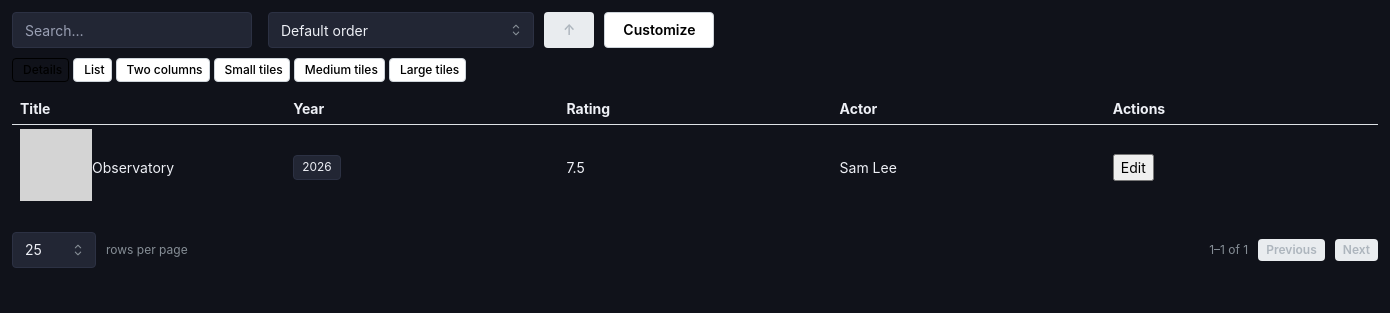
DenseGrid opt-in pagination › keeps artwork, titles, basic labels and actions in compact views, with full metadata in list and details
Click the button with aria-label "Two columns layout".
click(162, 70)  # box top-left (116, 58), bottom-right (210, 82)
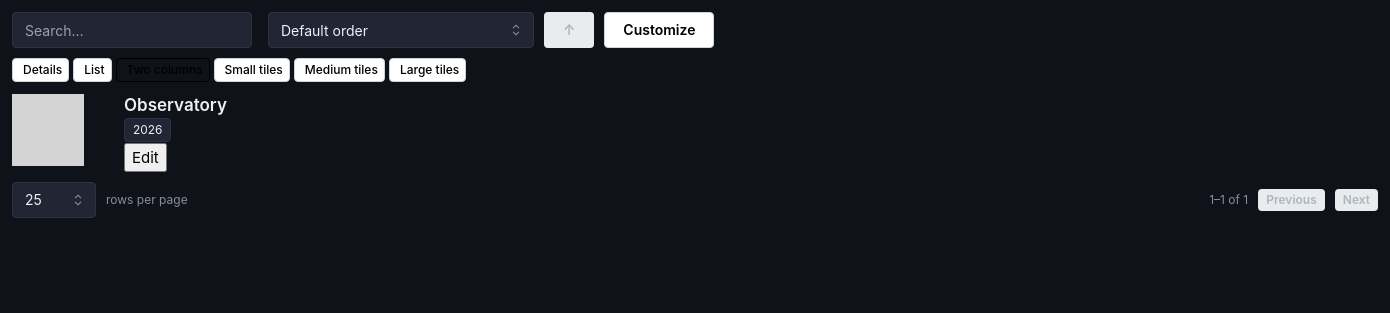
Expected: the text "Observatory" is shown, top-left (124, 95), bottom-right (227, 115)
Now the text "7.5" is gone
Now the text "Sam Lee" is gone
Click the button "Small tiles".
click(252, 70)  # box top-left (214, 58), bottom-right (290, 82)
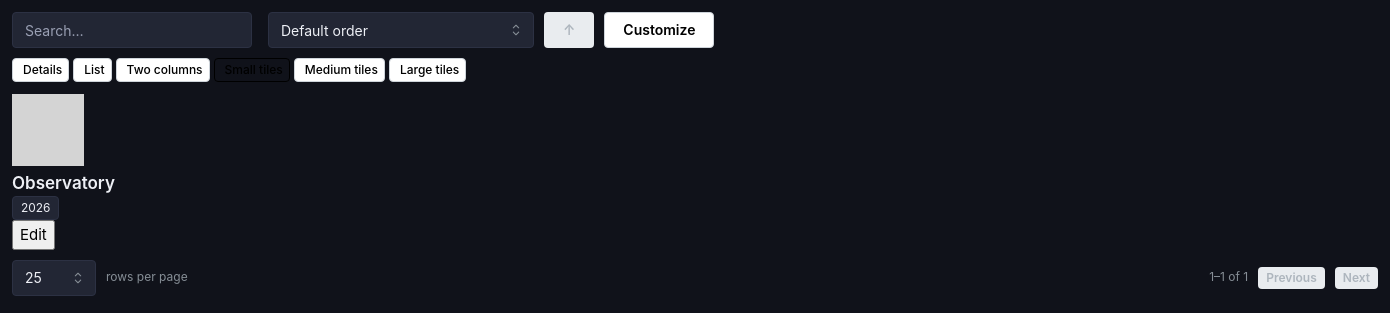
Expected: the text "Observatory" is shown, top-left (12, 173), bottom-right (115, 193)
Expected: the button named "Filter Year: 2026" is shown, top-left (12, 196), bottom-right (59, 220)
Click the button "Medium tiles".
click(339, 70)  # box top-left (294, 58), bottom-right (385, 82)
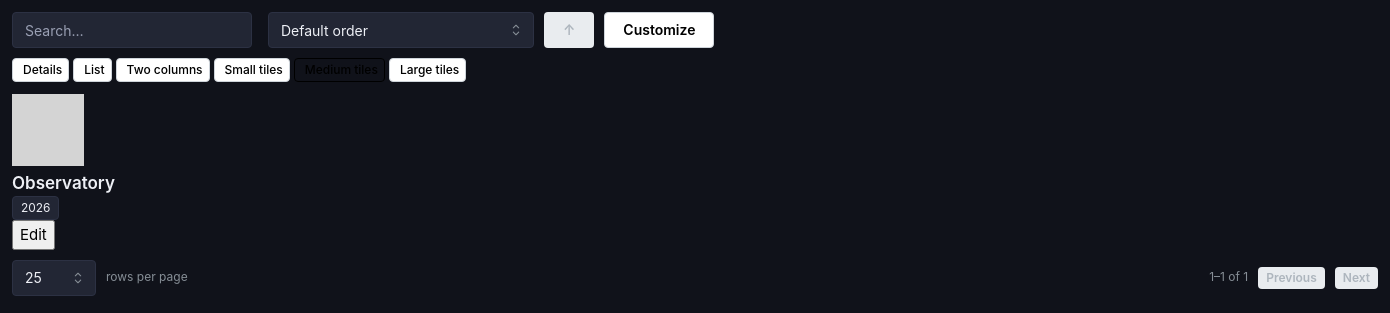
Expected: the text "Observatory" is shown, top-left (12, 173), bottom-right (115, 193)
Expected: the button named "Filter Year: 2026" is shown, top-left (12, 196), bottom-right (59, 220)
Click the button with aria-label "Large tiles layout".
click(428, 70)  # box top-left (389, 58), bottom-right (466, 82)
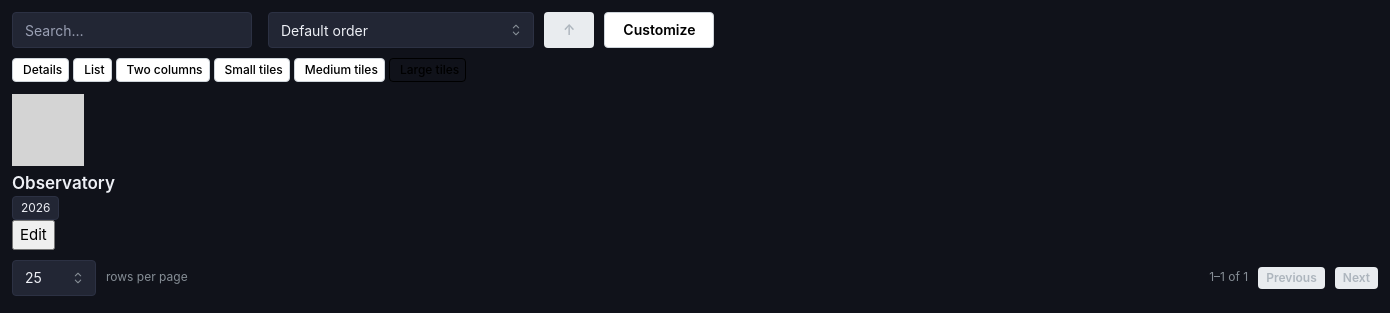
Expected: the text "Observatory" is shown, top-left (12, 173), bottom-right (115, 193)
Expected: the button named "Filter Year: 2026" is shown, top-left (12, 196), bottom-right (59, 220)
Click the button "List".
click(92, 70)  # box top-left (73, 58), bottom-right (112, 82)
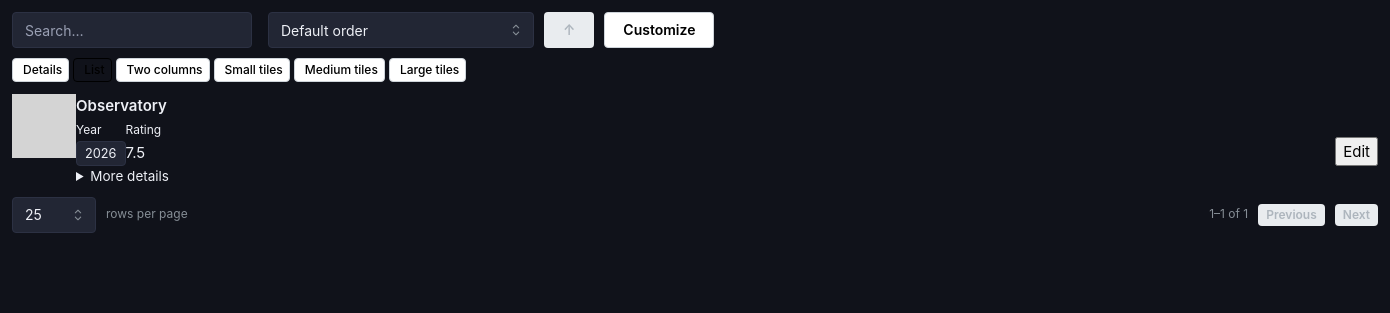
Now the text "7.5" is shown, box top-left (126, 142), bottom-right (145, 162)
Click the button with aria-label "Details layout".
click(41, 70)  # box top-left (12, 58), bottom-right (69, 82)
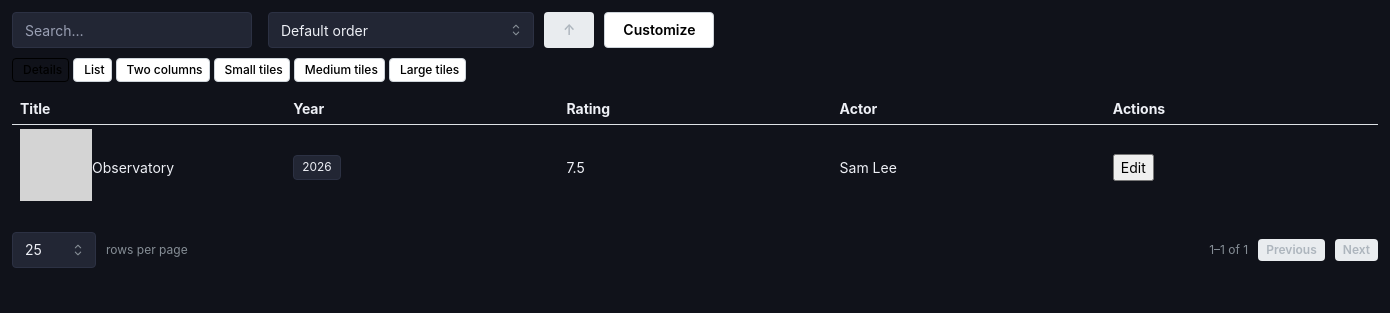
Now the text "7.5" is shown, box top-left (558, 124), bottom-right (832, 210)
Now the text "Sam Lee" is shown, box top-left (832, 124), bottom-right (1105, 210)
